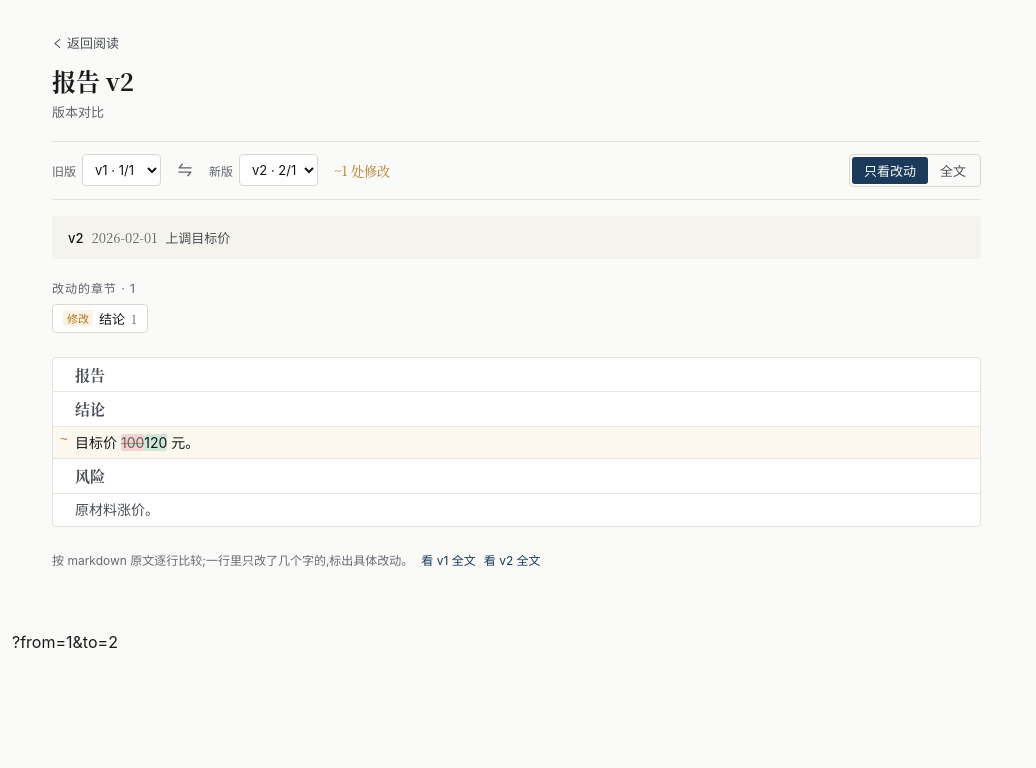
Test case: VersionDiffPage › 换版本写回 URL
The width and height of the screenshot is (1036, 768).
Expected: the element named "改动统计" is shown, top-left (334, 161), bottom-right (390, 180)
Select "v3 · 3/1" in the dropdown labelled "新版" at [278, 170], box top-left (239, 154), bottom-right (318, 186)
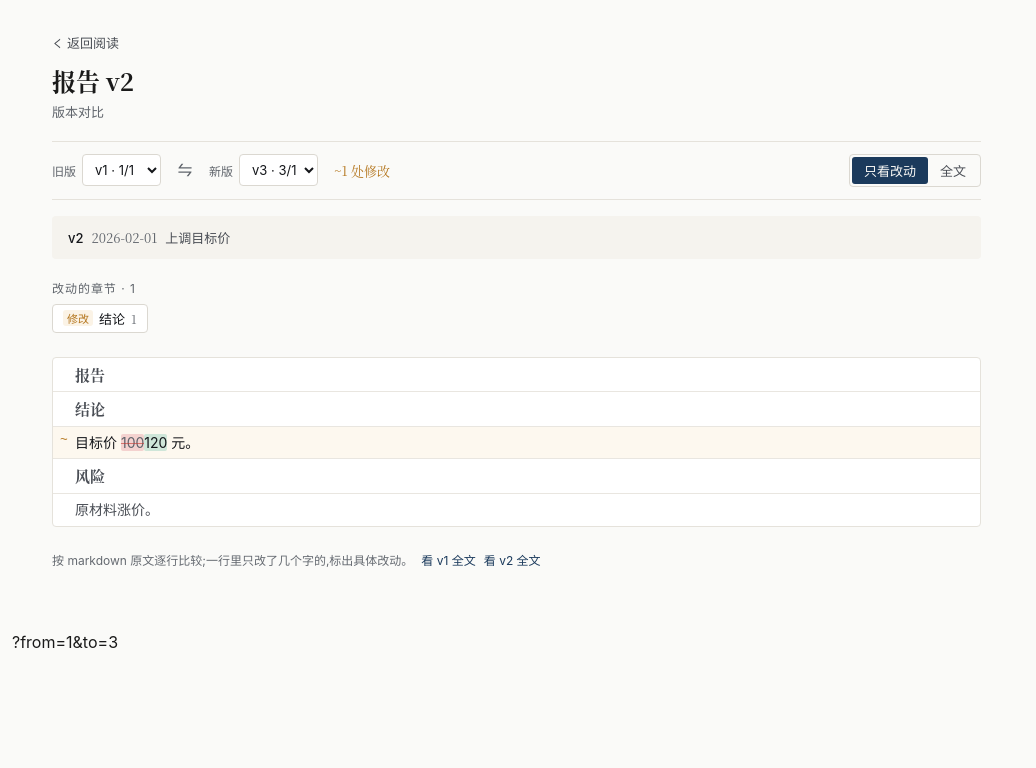
Expected: the text with test id "loc" reads "?from=1&to=3", top-left (12, 632), bottom-right (118, 652)
Click the button named "交换新旧版" at [185, 170], box top-left (169, 154), bottom-right (201, 186)
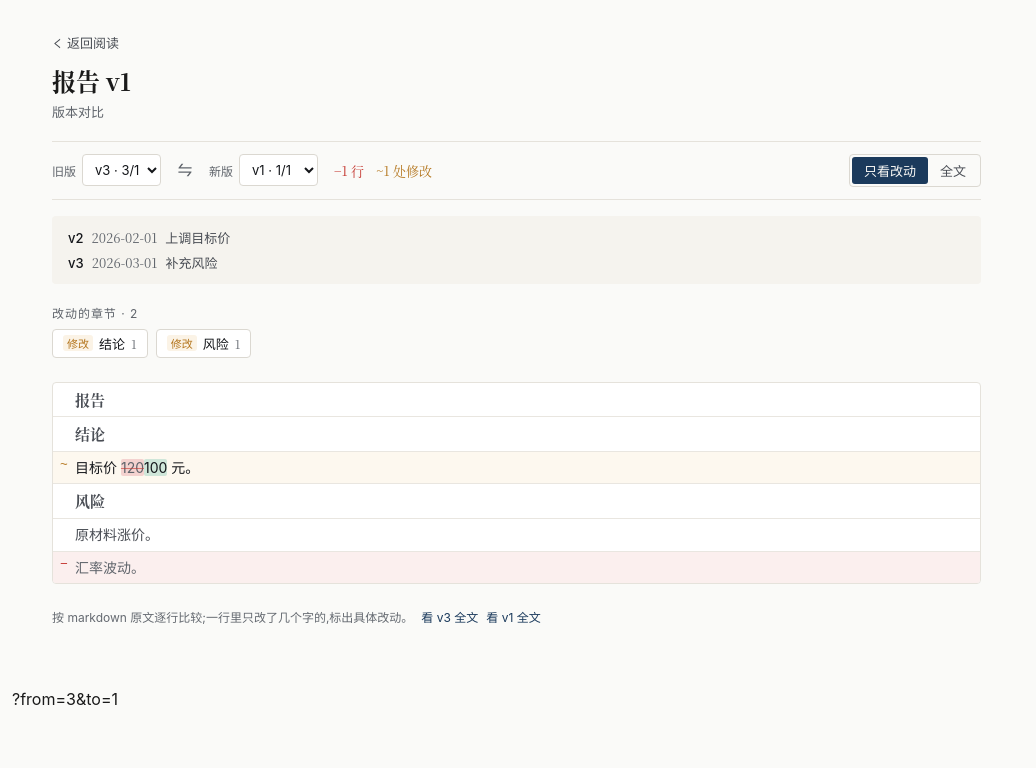
Expected: the text with test id "loc" reads "?from=3&to=1", top-left (12, 690), bottom-right (118, 710)
